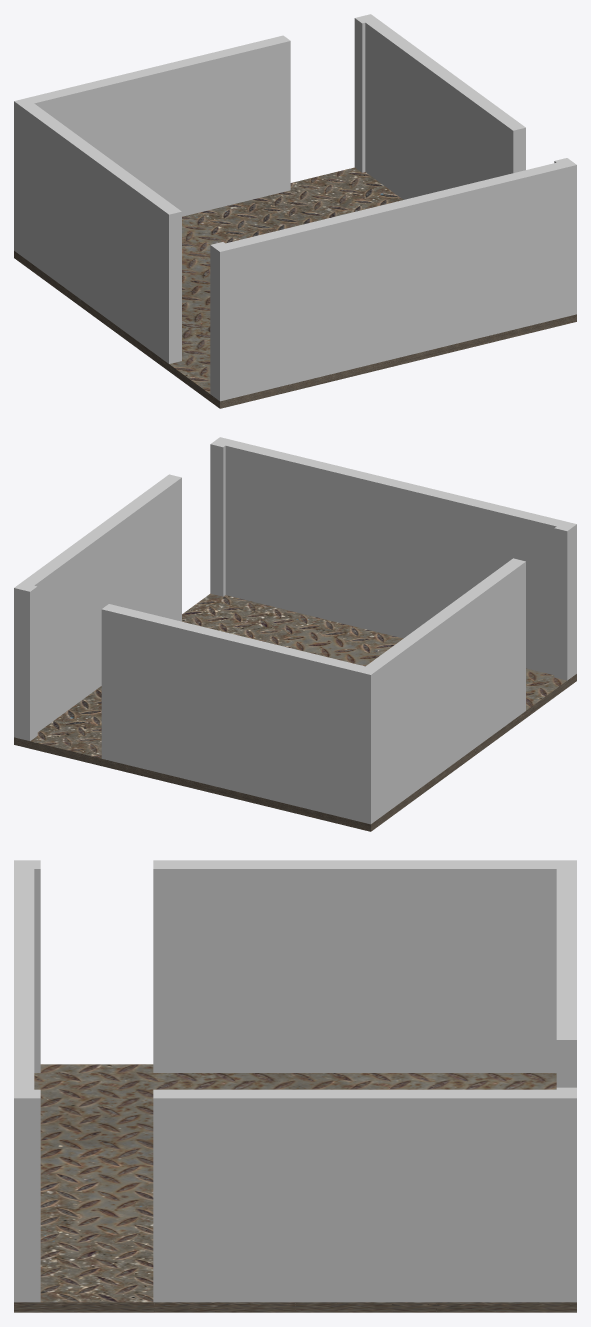
Rendered from Starting Room.fbx.
3 renders of one model, top to bottom at view 1: azimuth 30°, elevation 25°; view 2: azimuth 150°, elevation 25°; view 3: azimuth 270°, elevation 25°, orthographic. The views are drawn at different scales.
Visible parts, largest first — view 1: Bottom Wall, Top Wall, Left Wall, Right Wall, Floor; view 2: Bottom Wall, Top Wall, Left Wall, Right Wall, Floor; view 3: Right Wall, Left Wall, Floor, Bottom Wall, Top Wall.
Part boxes in pixels (x1,y1,x2,y2): Bottom Wall: [212, 160, 576, 401]; Top Wall: [14, 14, 376, 216]; Left Wall: [14, 98, 232, 400]; Right Wall: [358, 14, 575, 199]; Floor: [14, 167, 576, 408]; Bottom Wall: [213, 437, 576, 674]; Top Wall: [15, 583, 378, 823]; Left Wall: [358, 521, 576, 824]; Right Wall: [14, 437, 230, 740]; Floor: [14, 593, 576, 831]; Right Wall: [14, 1089, 576, 1302]; Left Wall: [14, 860, 576, 1072]; Floor: [14, 1064, 576, 1312]; Bottom Wall: [14, 860, 34, 1301]; Top Wall: [556, 860, 576, 1138].
Size of the model in its own units: 1000 by 420 by 1000.
